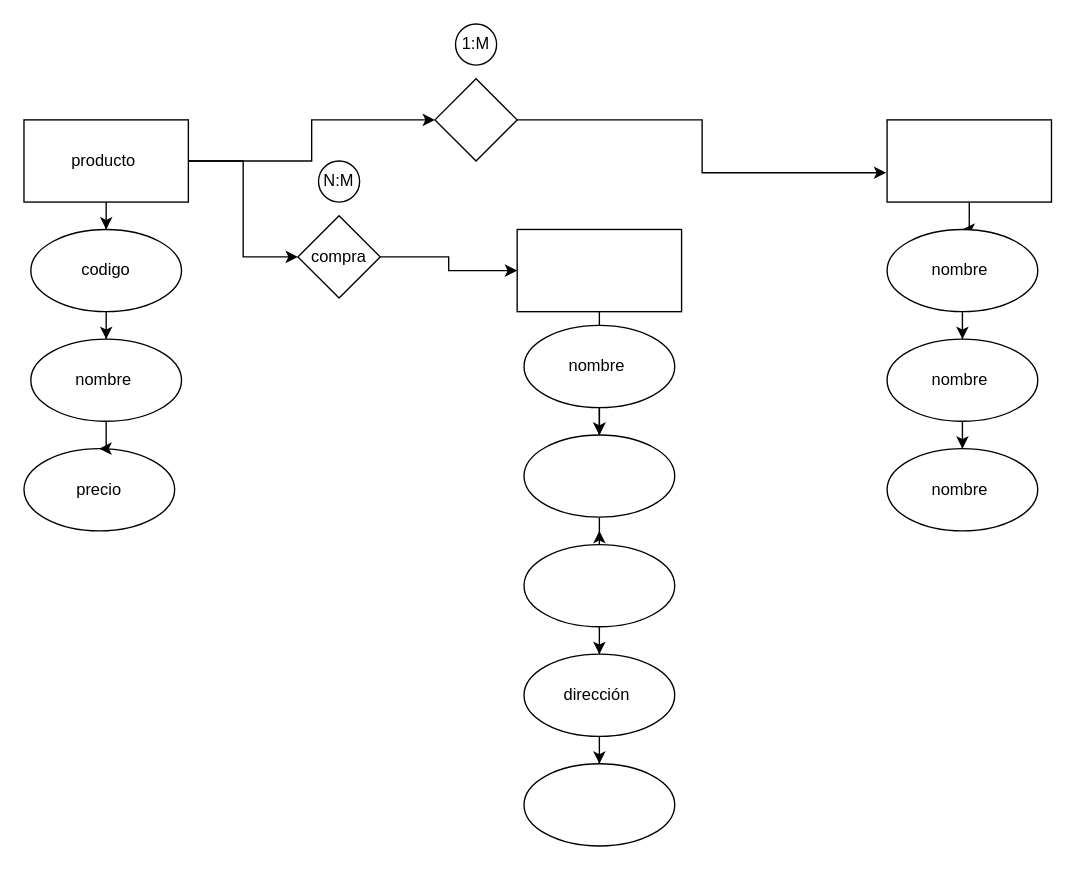
Image size: 1075x870. Some labels were removed from this diagram. The centre of each missing label's shape, as x and y in pixels:
"apellido" goes at point 599,475.
"cliente" goes at point 599,270.
"DNI" goes at point 599,585.
"fecha" goes at point 599,804.
"proveedor" goes at point 968,160.
"suministra" goes at point 475,119.
